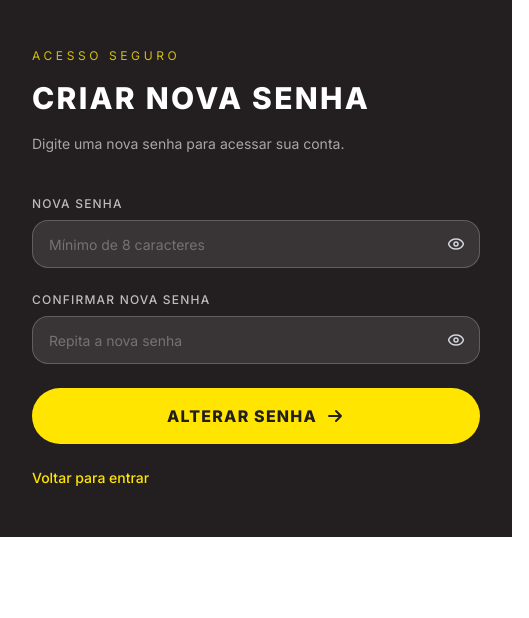
AuthResetPasswordForm › shows a friendly error for invalid or expired reset links
Step 1. Type "novasenha123" into the password field labelled "Nova senha" → x=256, y=244, box x1=32 y1=220 x2=480 y2=268
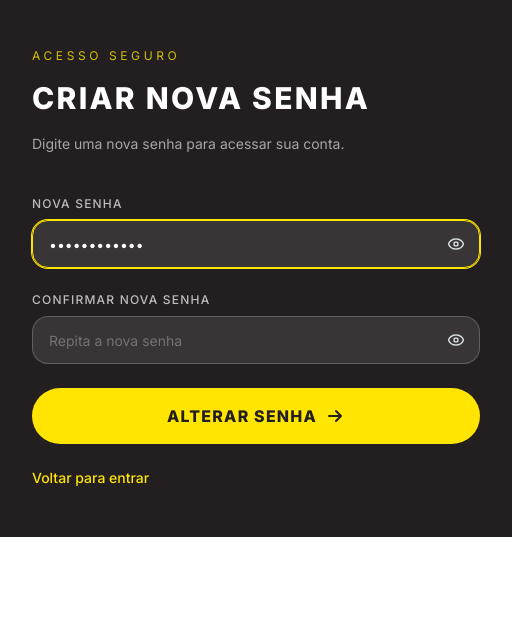
Step 2. Type "novasenha123" into the password field labelled "Confirmar nova senha" → x=256, y=340, box x1=32 y1=316 x2=480 y2=364
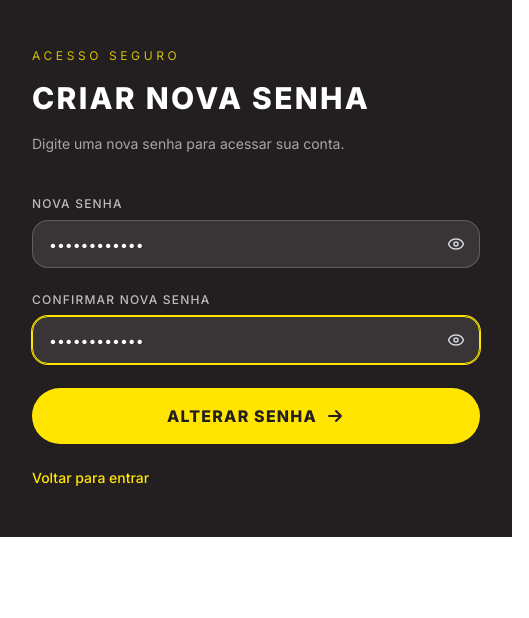
Step 3. Click the button "Alterar senha" → x=256, y=416, box x1=32 y1=388 x2=480 y2=444
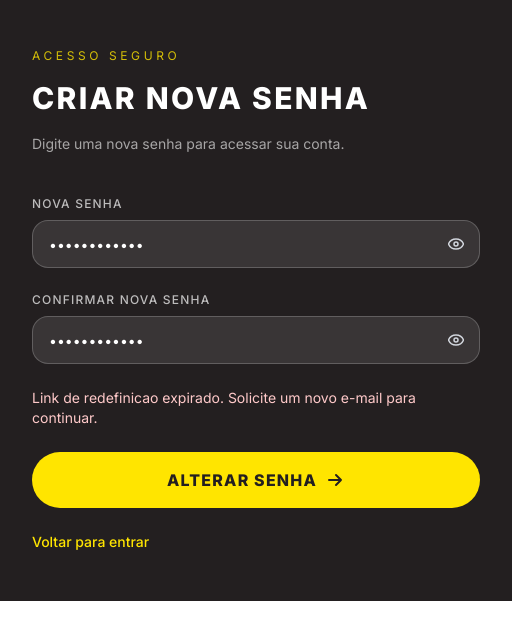
Expected: the text "Link de redefinicao expirado. Solicite um novo e-mail para continuar." is shown, x1=32 y1=388 x2=480 y2=428
